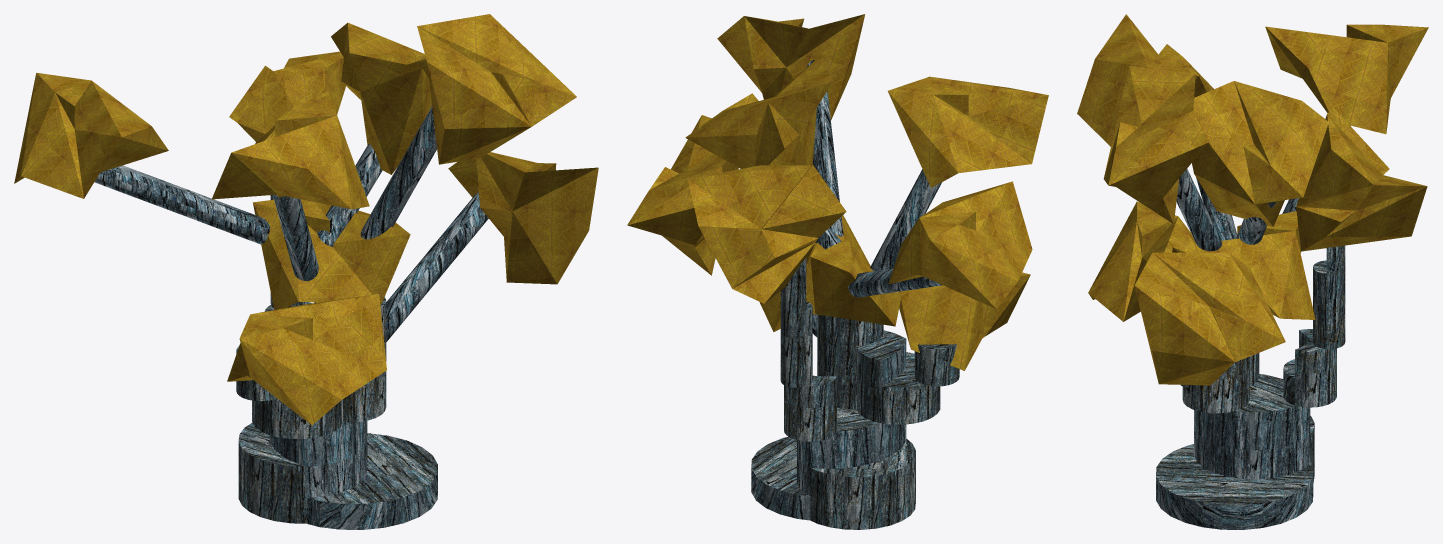
Rendered from ArbreCubik_Bleu.dae.
The picture shows the model from 3 angles, left to right: view 1: azimuth 30°, elevation 25°; view 2: azimuth 150°, elevation 25°; view 3: azimuth 270°, elevation 25°; orthographic projection. The views are drawn at different scales.
Parts seen in each view (by area): view 1: SketchUp (×18); view 2: SketchUp (×16); view 3: SketchUp (×15).
Boxes of the visible parts, x1,y1,x2,y2 form: SketchUp (×18): [14, 14, 598, 529]; SketchUp (×16): [627, 14, 1048, 529]; SketchUp (×15): [1077, 14, 1428, 529].
Bounding box in the file's own units: 149 × 103 × 143.
3 materials, 3 textured.
